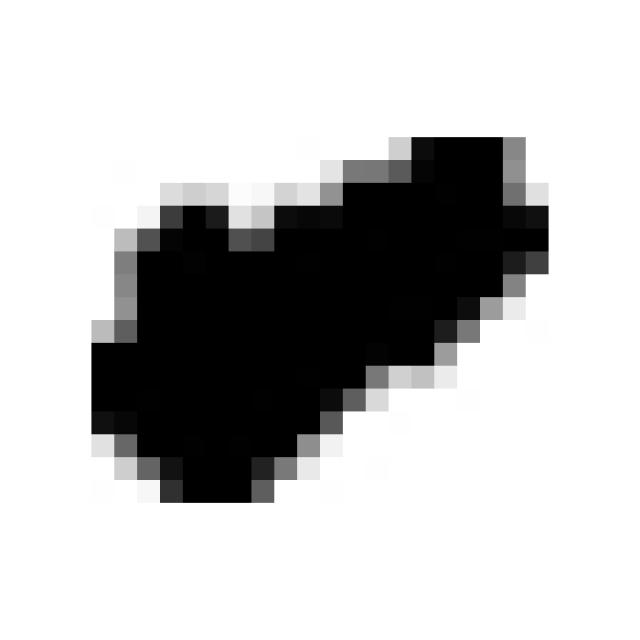0 -zero-: (69, 121, 564, 517)
